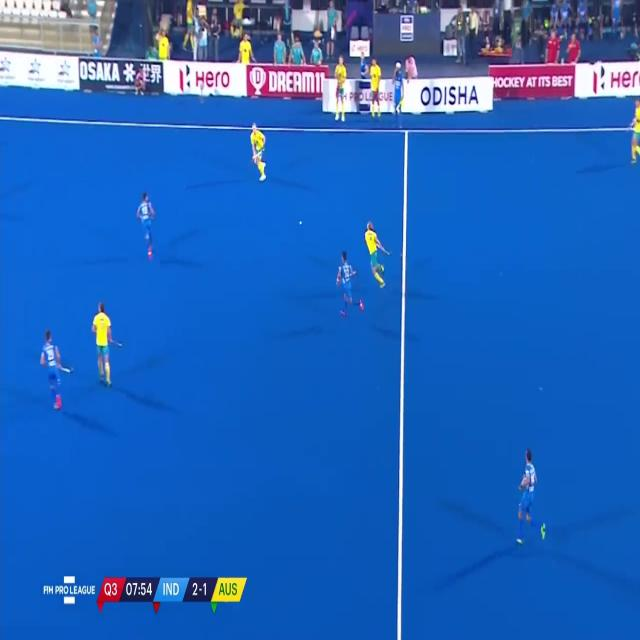ball: (298, 217, 304, 228)
